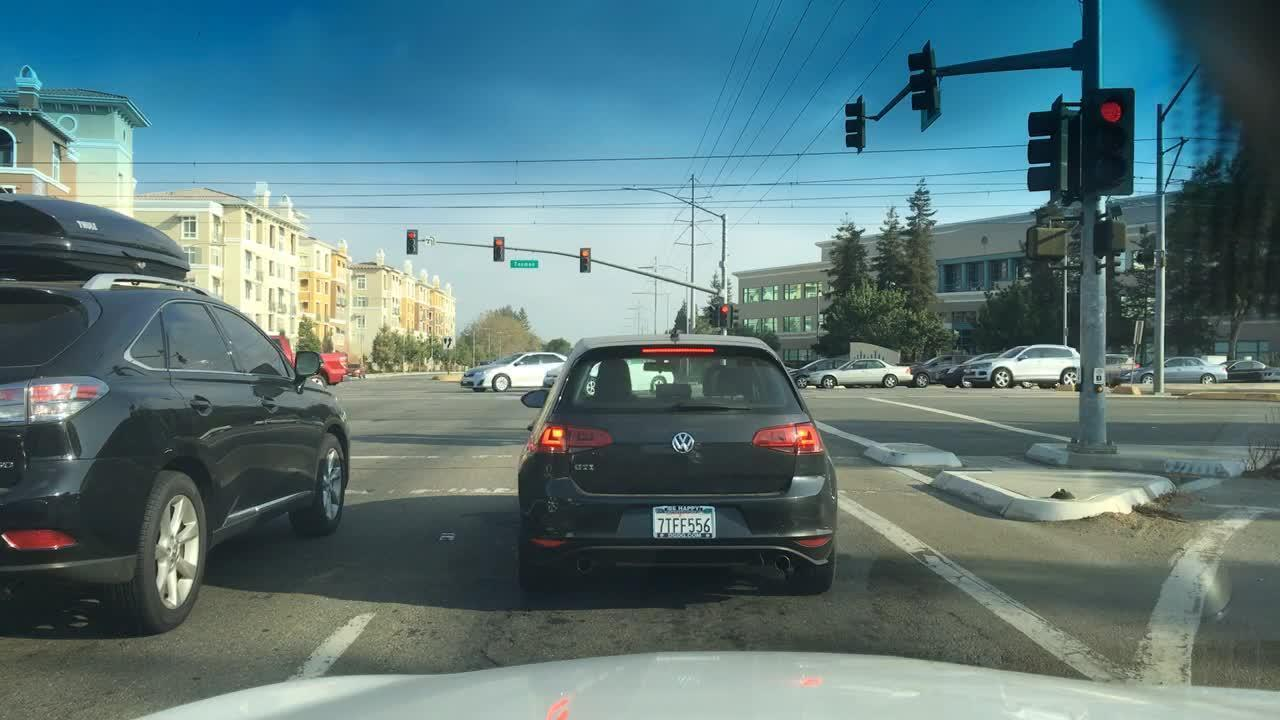Volkswagen: (671, 429, 697, 456)
